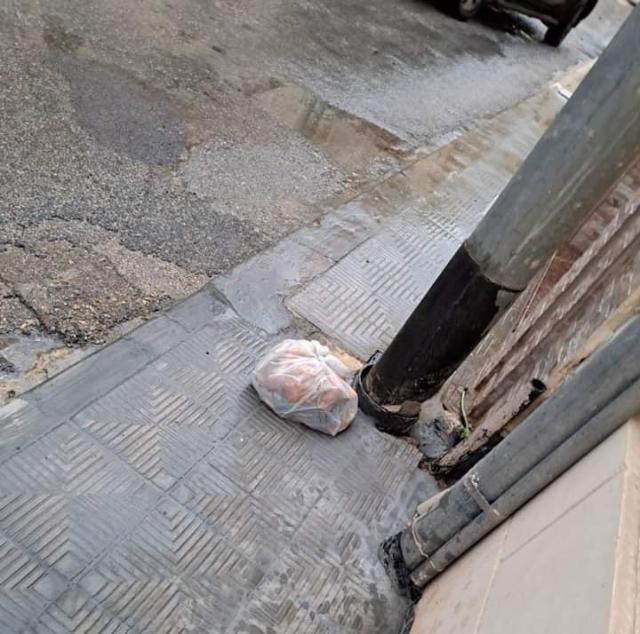Organic -White-: (251, 340, 357, 436)
